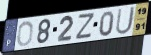0: (98, 9, 115, 37)
2: (57, 14, 75, 43)
8: (36, 18, 51, 45)
O: (16, 20, 34, 47)
U: (114, 5, 137, 36)
Z: (74, 12, 96, 41)
